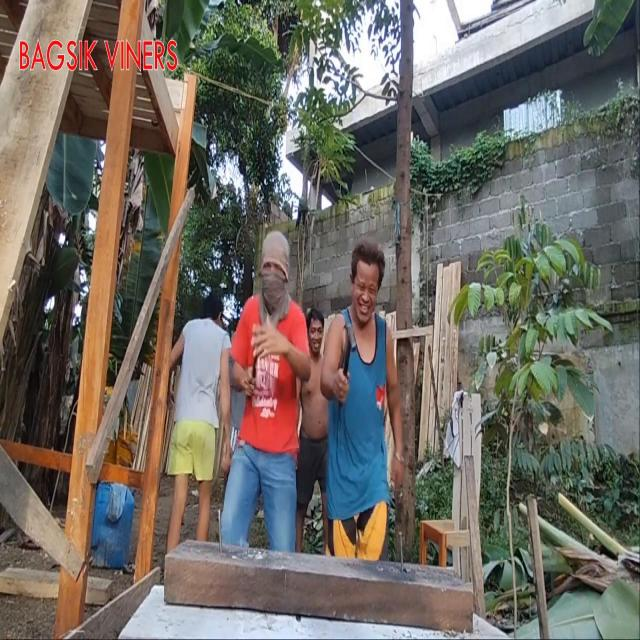hammer: (343, 324, 357, 376)
